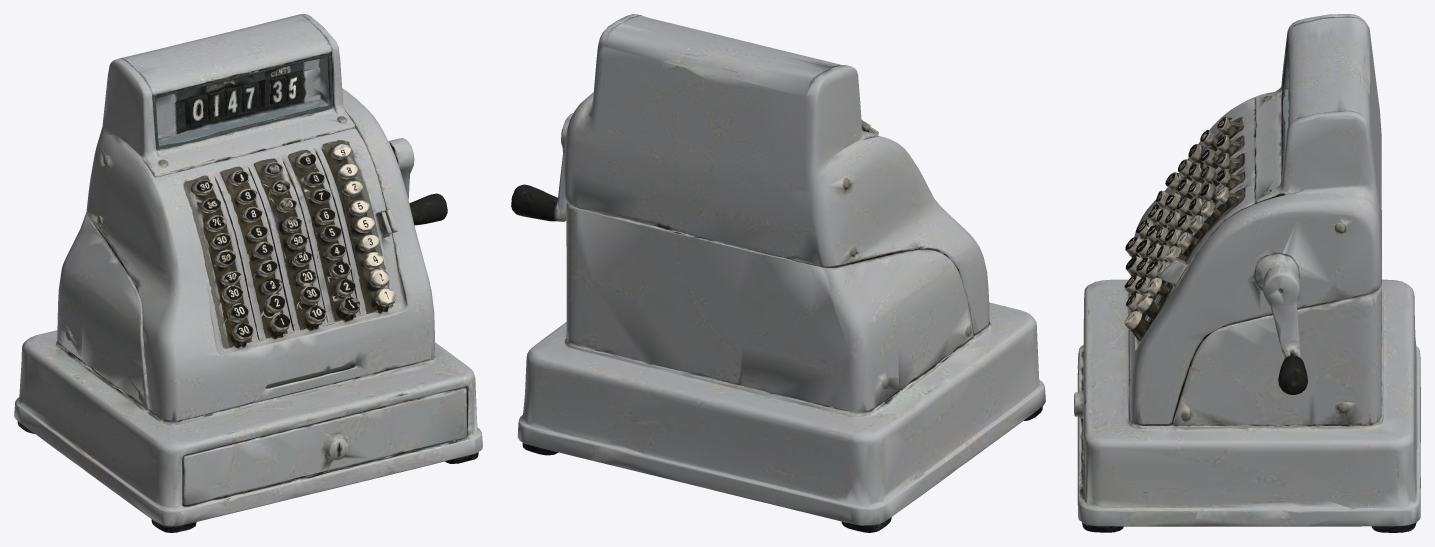
File: register.glb
3 renders of one model, left to right at view 1: azimuth 30°, elevation 25°; view 2: azimuth 150°, elevation 25°; view 3: azimuth 270°, elevation 25°, orthographic. The views are drawn at different scales.
Bounding box in the file's own units: 1.9 × 1.76 × 1.4.
1 material, 1 textured.
